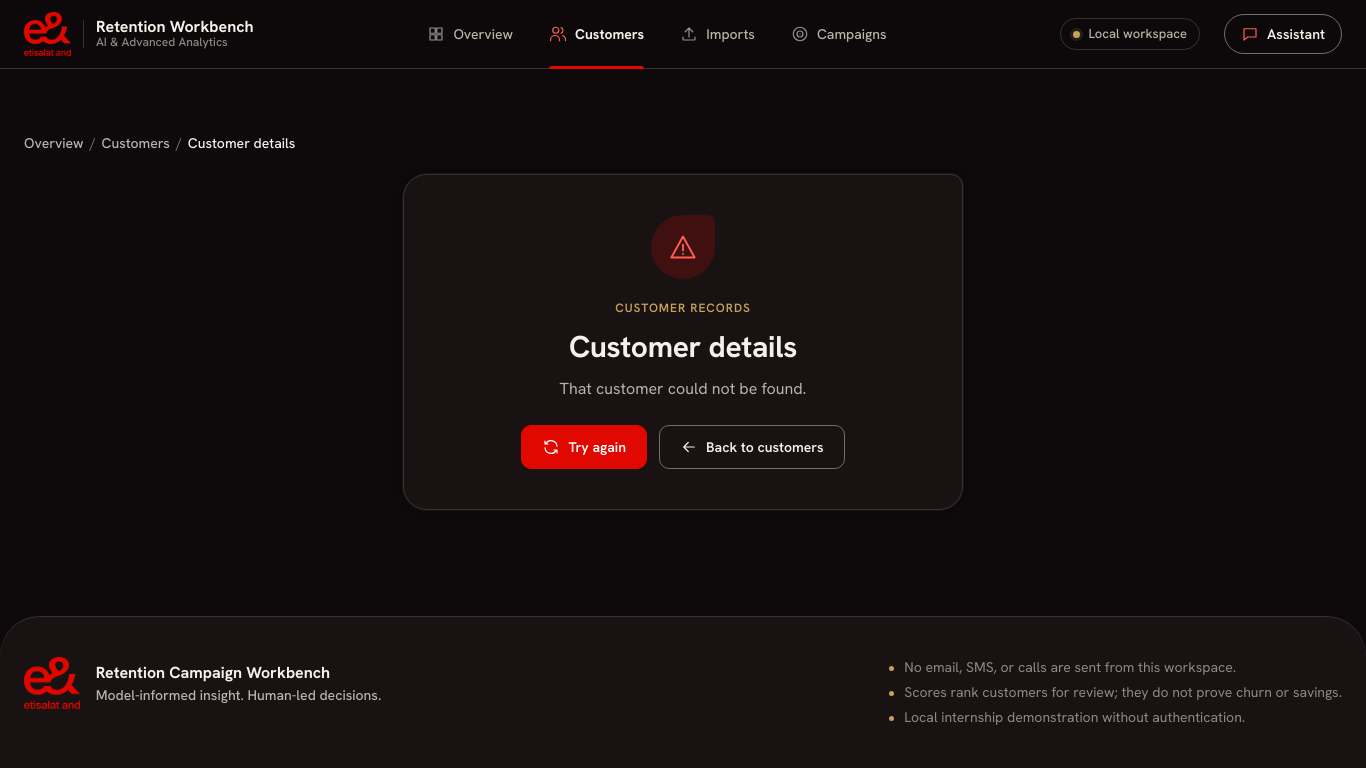
Test: chat browser journey › opens and closes the assistant side panel from the header
The image size is (1366, 768).
Click the button "Assistant": (1283, 34) [1224, 14, 1342, 54]
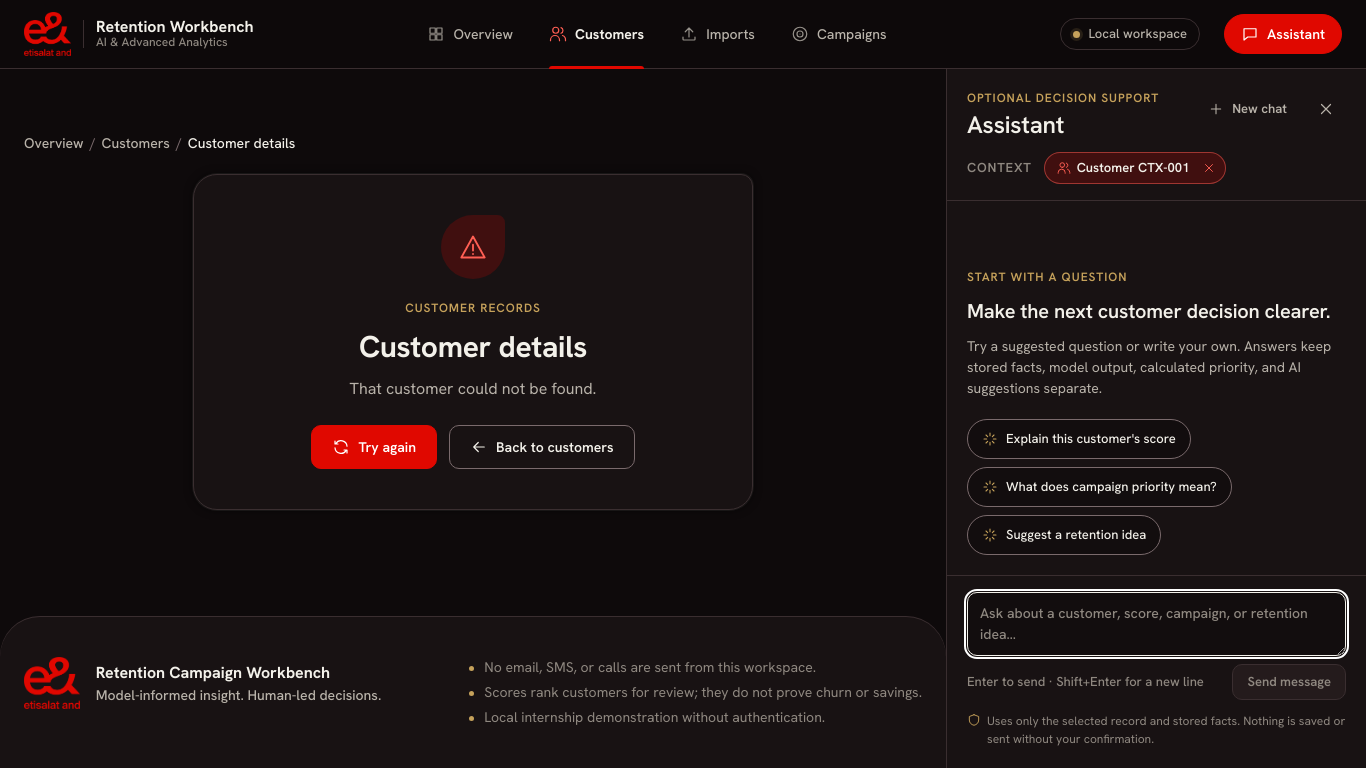
expect the button "Assistant" is expanded: met, box [1224, 14, 1342, 54]
expect the text "Customer CTX-001" is shown: met, box [1077, 158, 1189, 178]
Click the button named "Close assistant": (1326, 109) [1306, 89, 1346, 129]
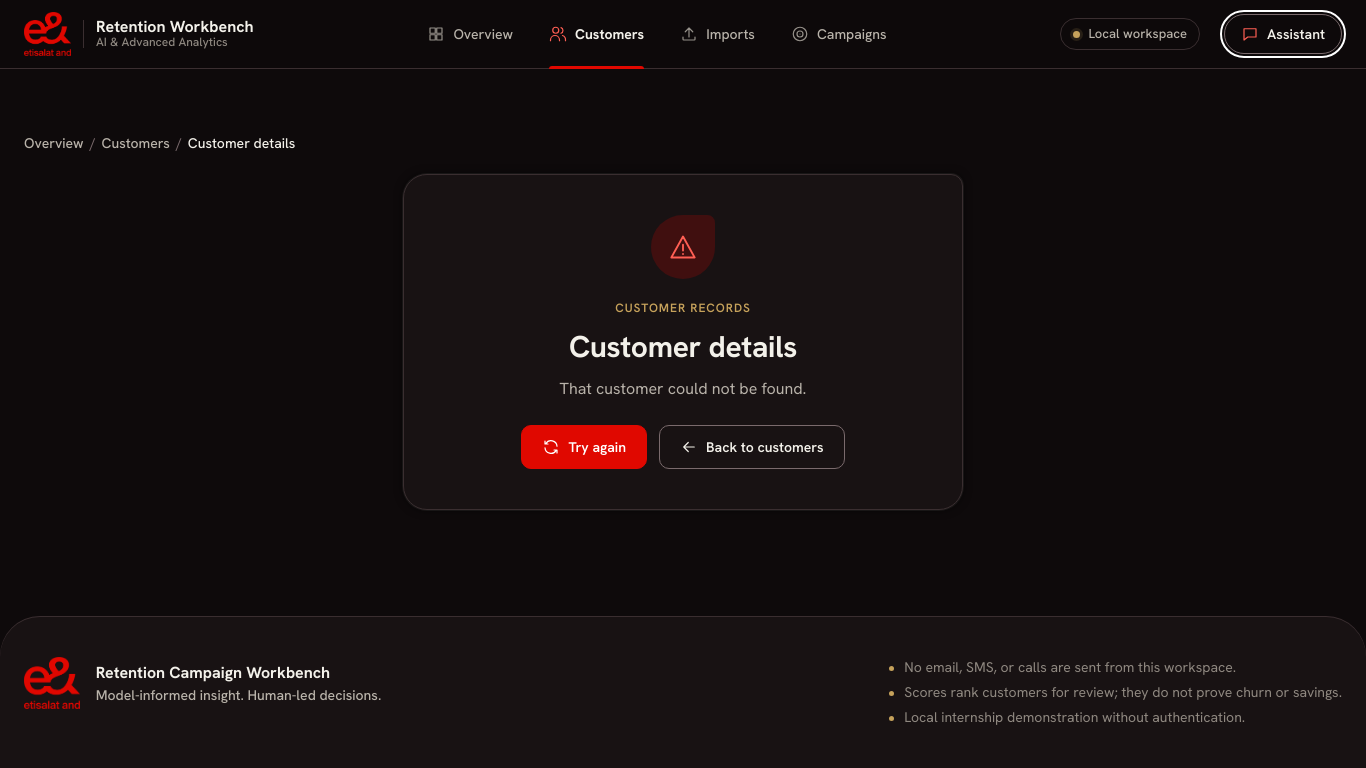
expect the button "Assistant" is collapsed: met, box [1224, 14, 1342, 54]
